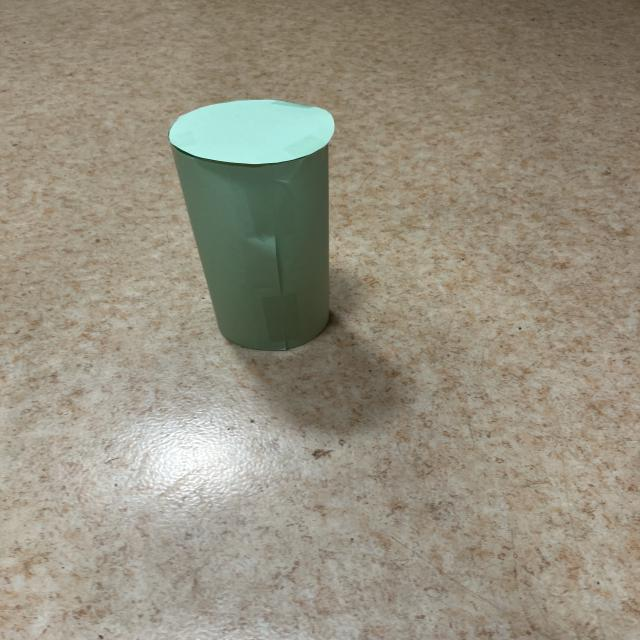meta: (169, 100, 334, 351)
